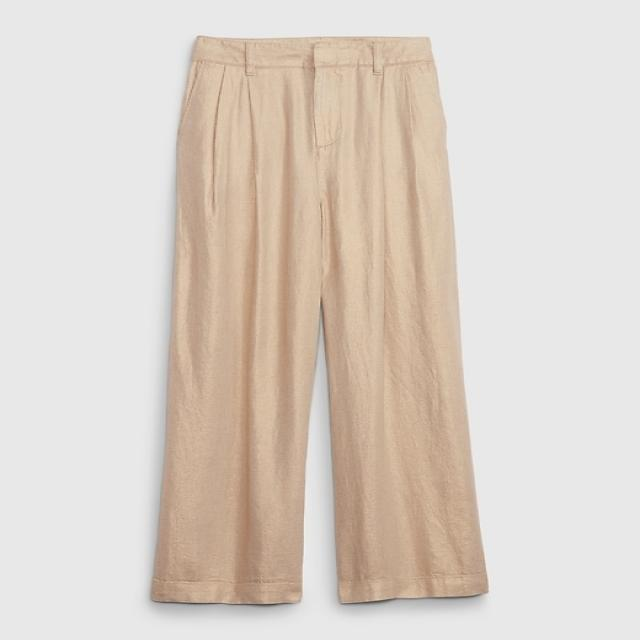long-pants: (149, 36, 490, 610)
